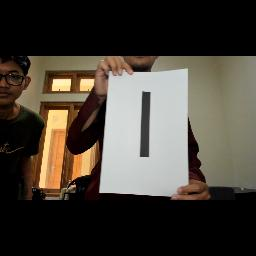i: (132, 87, 166, 165)
